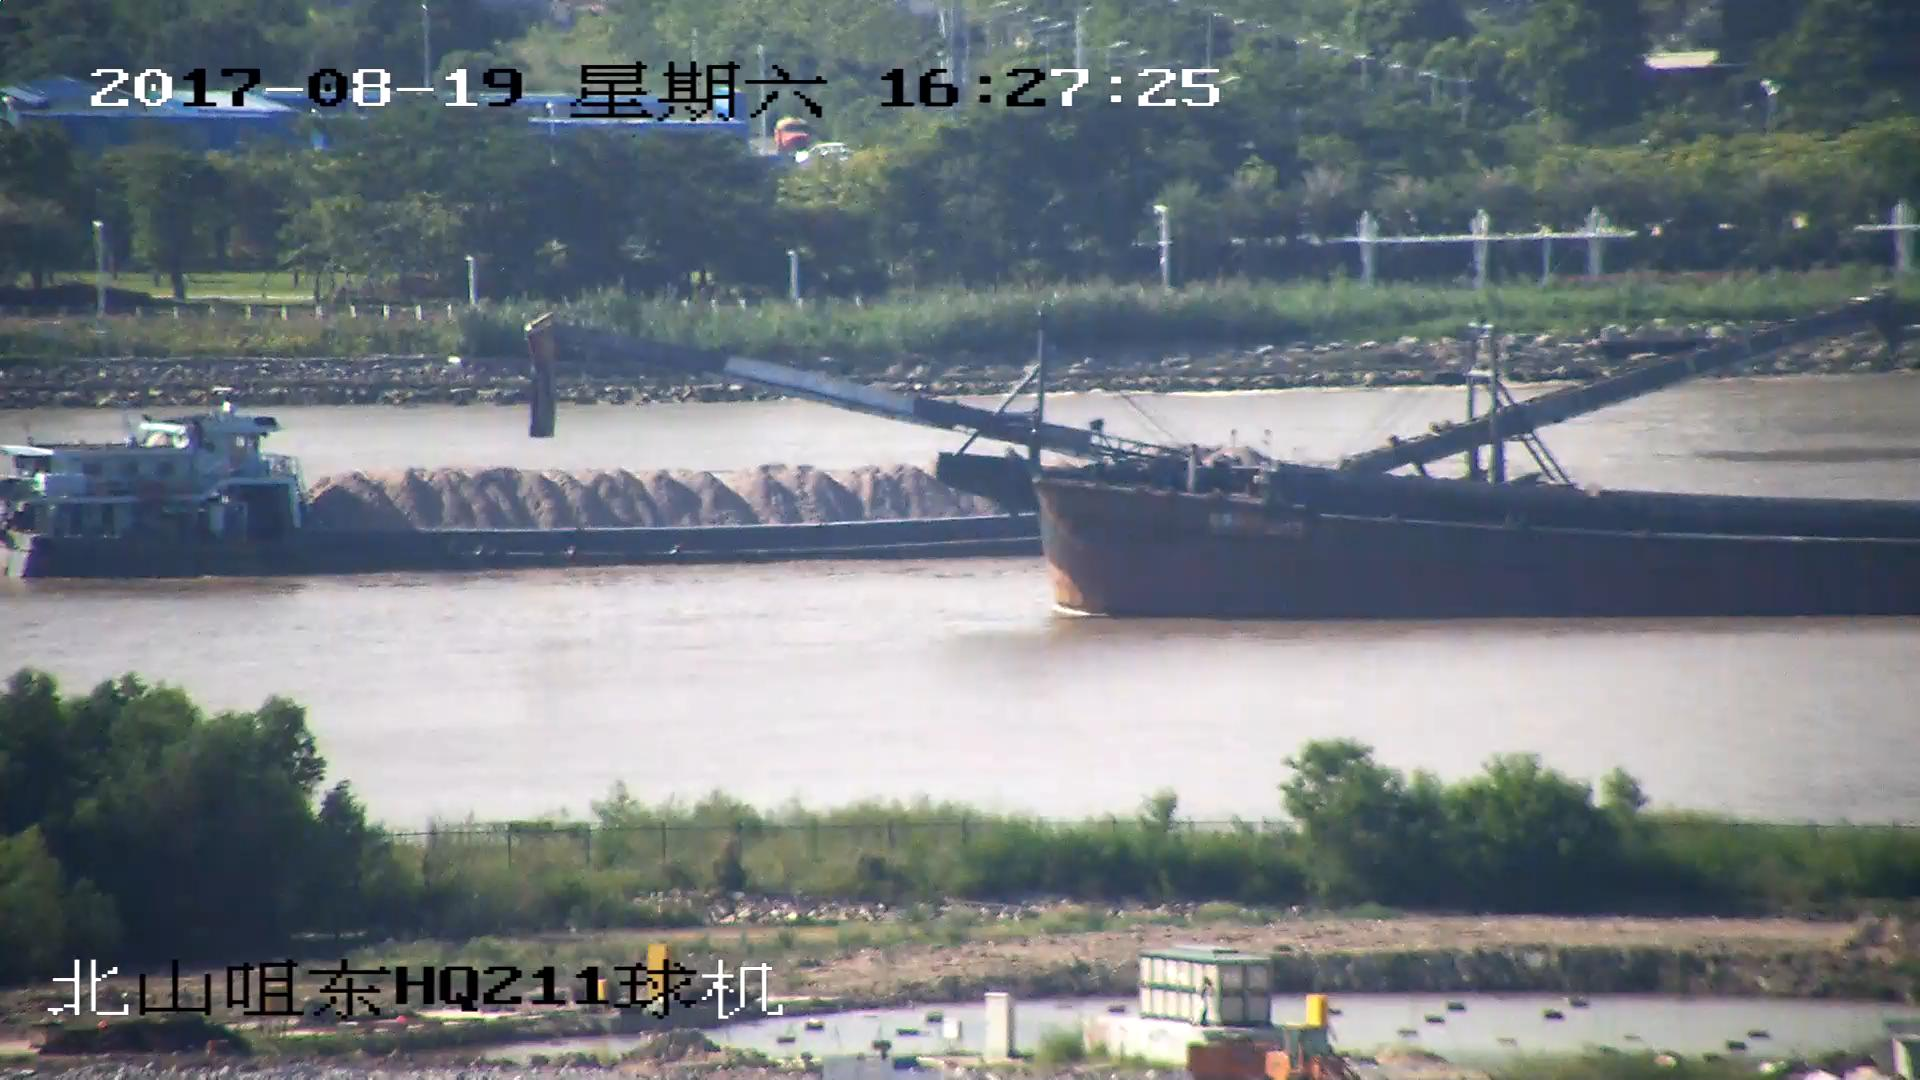bulk cargo carrier: (527, 321, 1919, 619)
ore carrier: (1, 296, 1893, 579)
